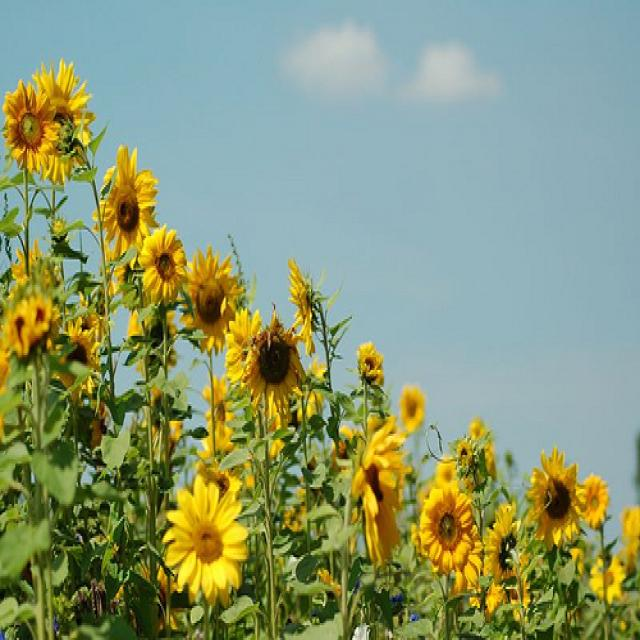sunflower: (164, 474, 253, 610), (346, 414, 412, 576), (97, 147, 165, 283), (30, 51, 90, 200), (173, 242, 242, 360), (237, 317, 307, 429), (522, 447, 588, 559), (417, 478, 480, 582), (1, 75, 58, 187), (138, 217, 188, 315), (287, 259, 325, 355), (575, 464, 609, 532), (349, 334, 384, 389)
